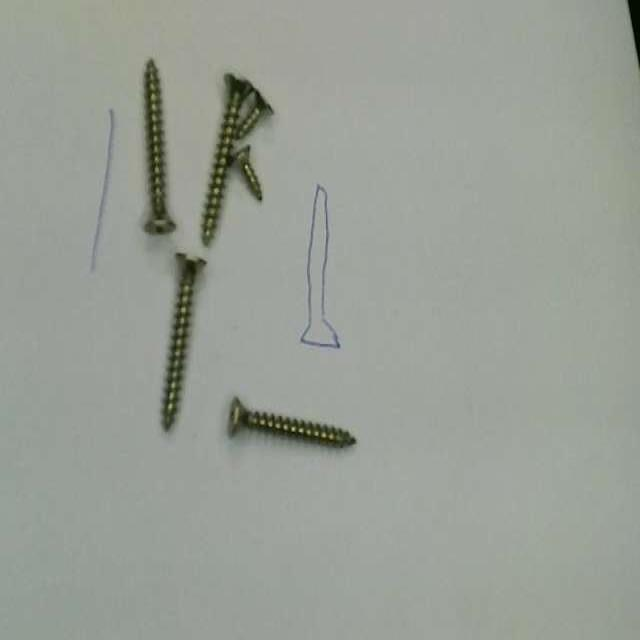Parafuso: (201, 74, 251, 246), (162, 254, 206, 430), (229, 398, 356, 447), (144, 59, 175, 234), (235, 88, 273, 139), (232, 146, 262, 201)
